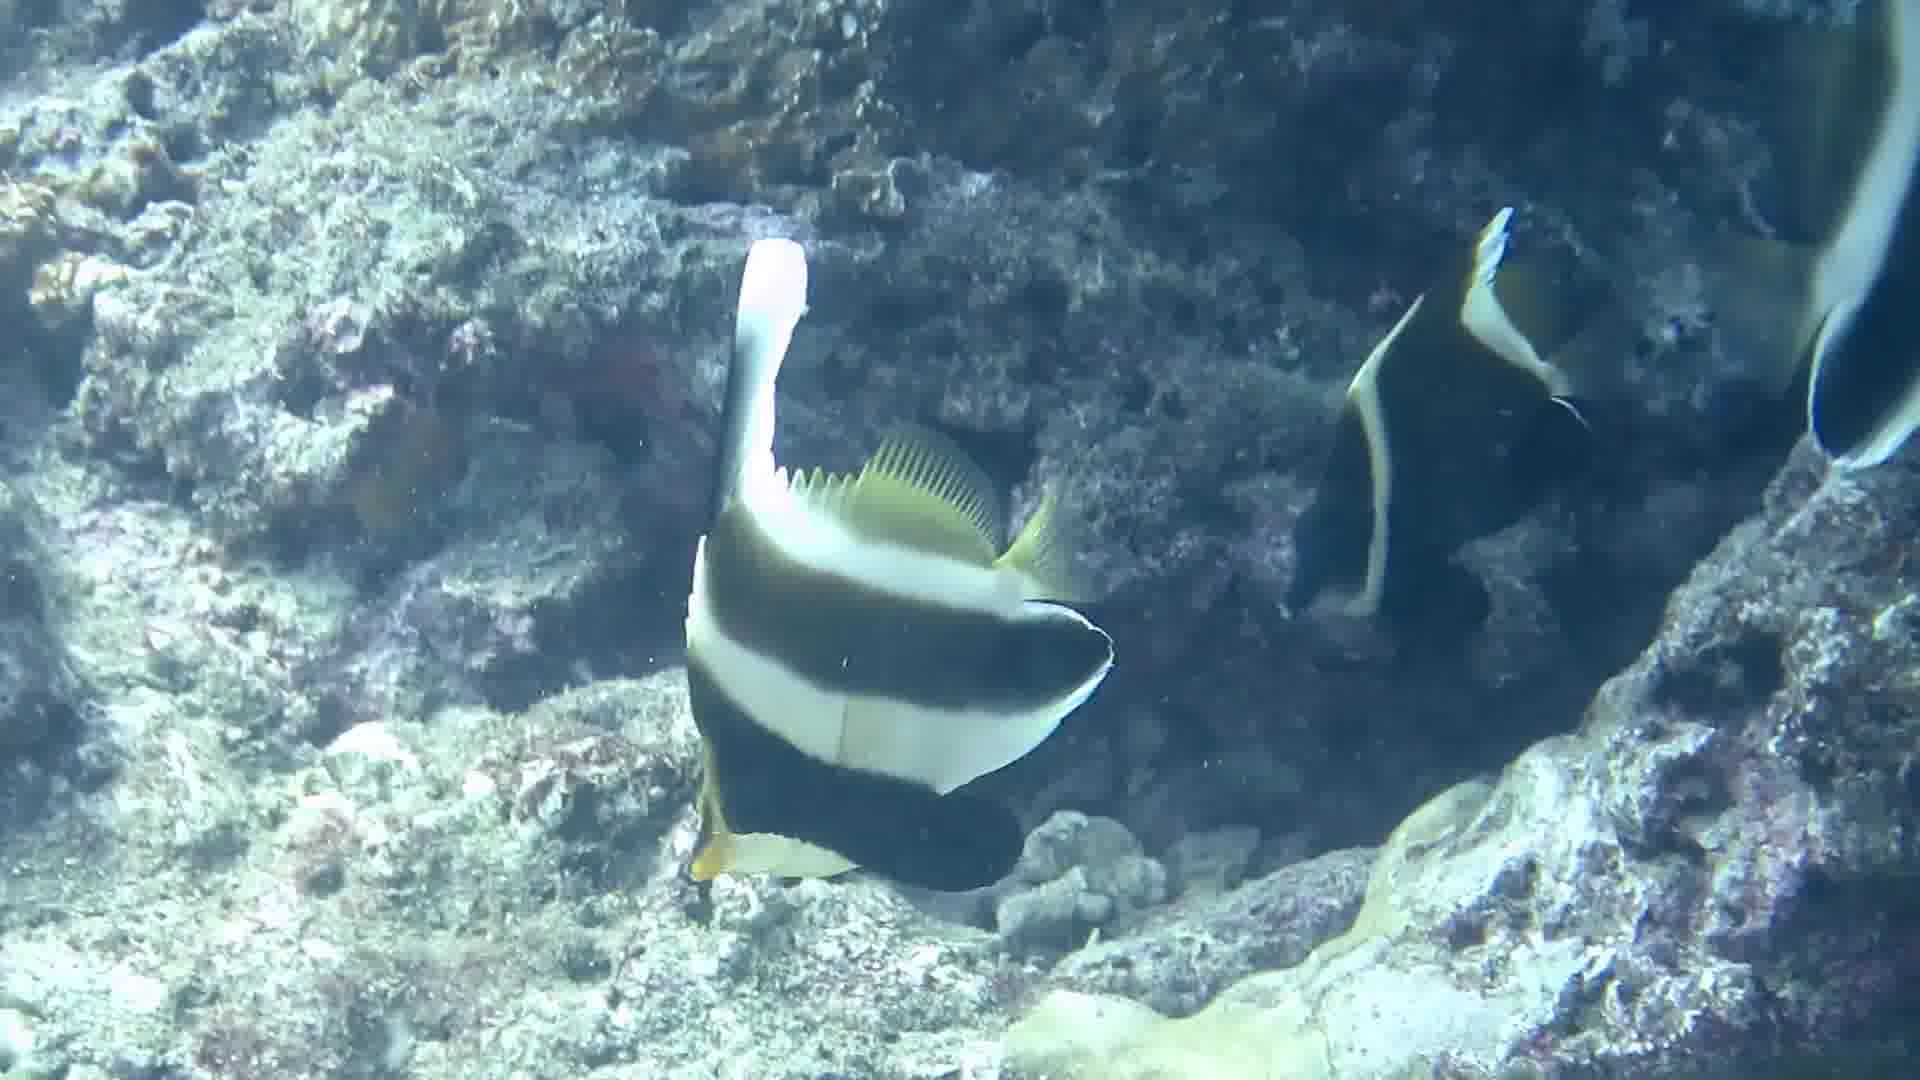Heniochus chrysostomus: (498, 233, 1168, 967), (1265, 113, 1713, 740)
